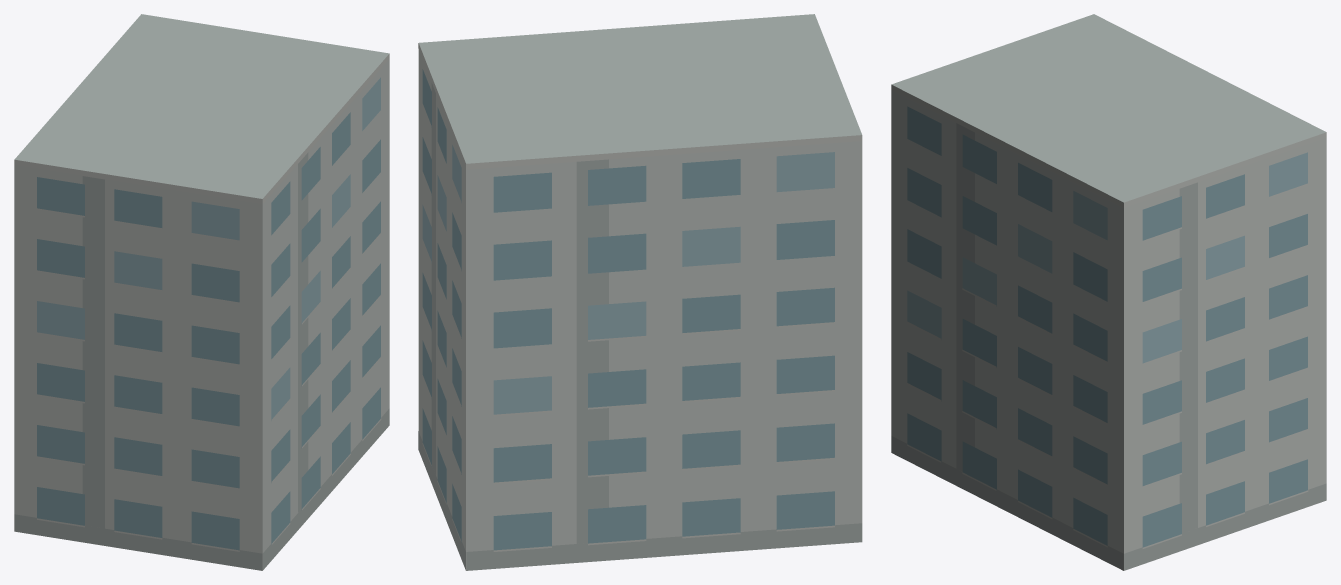
File: survey-upis-32844877.glb
The picture shows the model from 3 angles, left to right: view 1: azimuth 30°, elevation 25°; view 2: azimuth 150°, elevation 25°; view 3: azimuth 270°, elevation 25°; orthographic projection. The views are drawn at different scales.
Parts seen in each view (by area): view 1: survey-upis-32844877.tmp; view 2: survey-upis-32844877.tmp; view 3: survey-upis-32844877.tmp.
Part boxes in pixels (<box>): survey-upis-32844877.tmp: <box>14,14,389,570</box>; survey-upis-32844877.tmp: <box>418,14,862,570</box>; survey-upis-32844877.tmp: <box>891,14,1326,570</box>.
Size of the model in its own units: 18.08 by 16.45 by 17.63.
